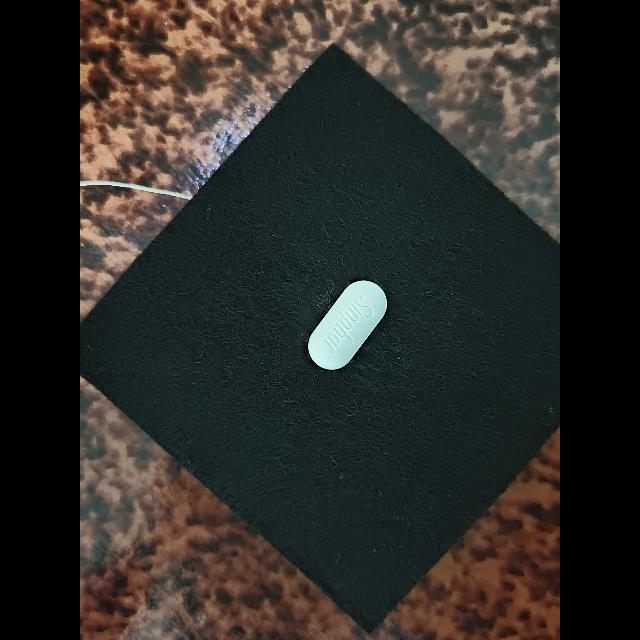Intact Pill: (308, 280, 387, 370)
